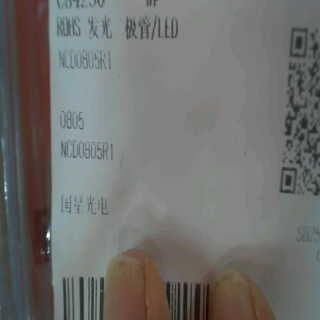LED: (87, 11, 179, 42)
